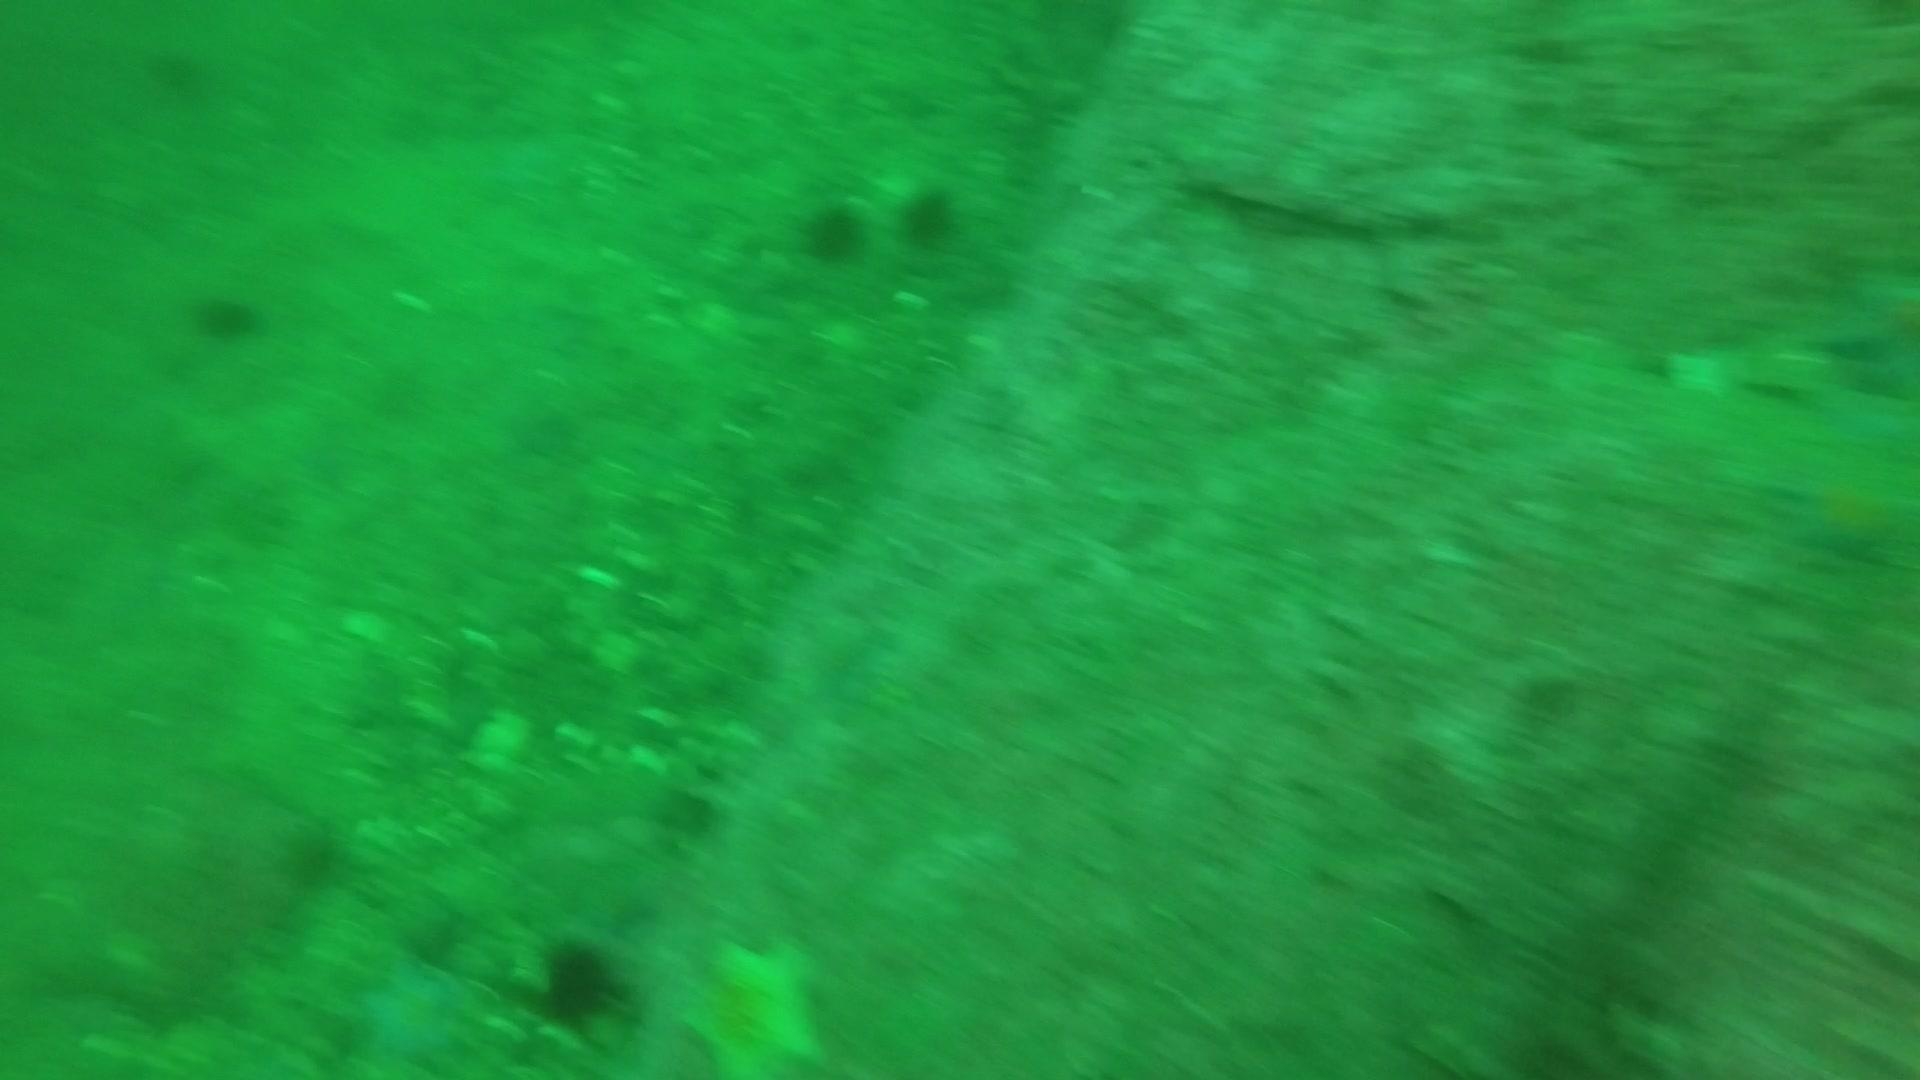echinus: (527, 930, 632, 1033), (135, 37, 225, 111), (273, 814, 353, 894), (794, 195, 872, 268), (893, 178, 967, 251), (187, 282, 268, 347)
starfish: (676, 931, 833, 1080), (344, 951, 483, 1073), (1811, 255, 1919, 404), (1775, 464, 1913, 568)
